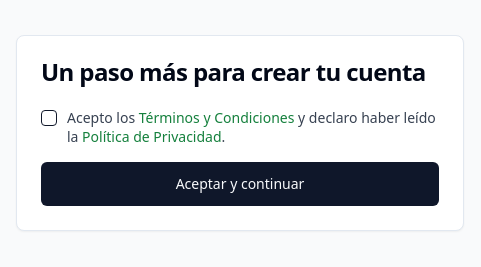
Test case: ConsentPage — cierre del bypass hacia el selector de rol › sin aceptar: no avanza y muestra el error de consentimiento
The image size is (481, 267).
Step 1. Click the button "Aceptar y continuar" → x=240, y=184, box [41, 162, 439, 206]
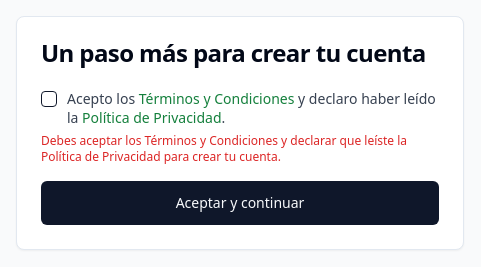
Now the message is shown, box [41, 133, 439, 165]
